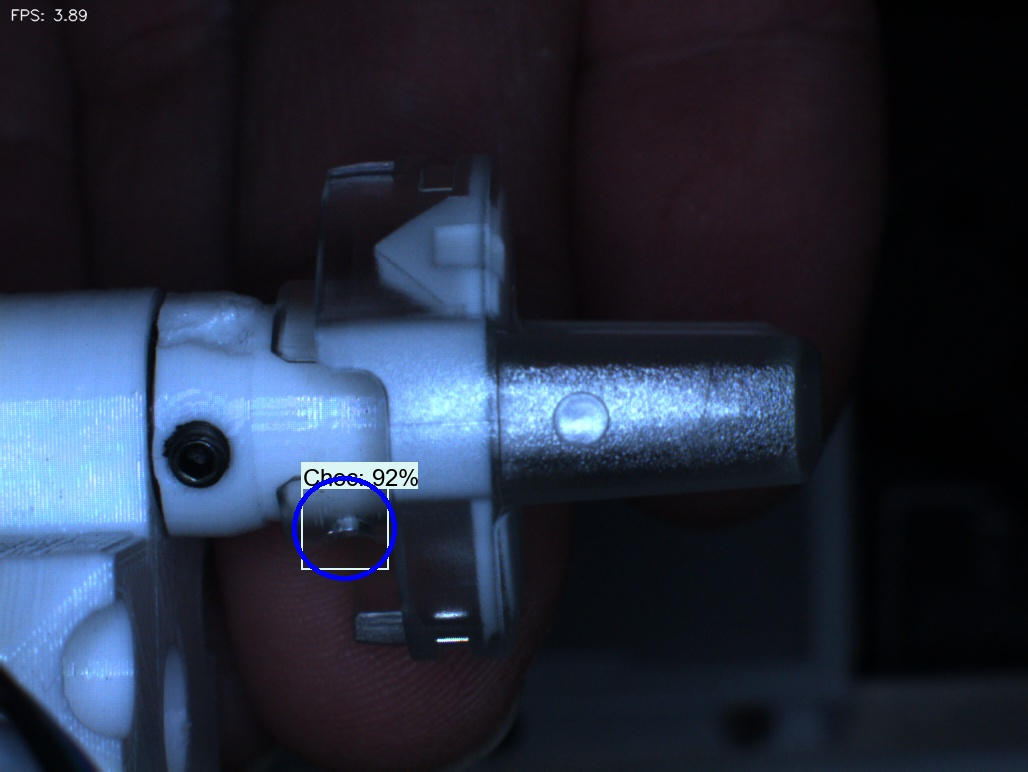DentOk: (348, 201, 420, 312)
